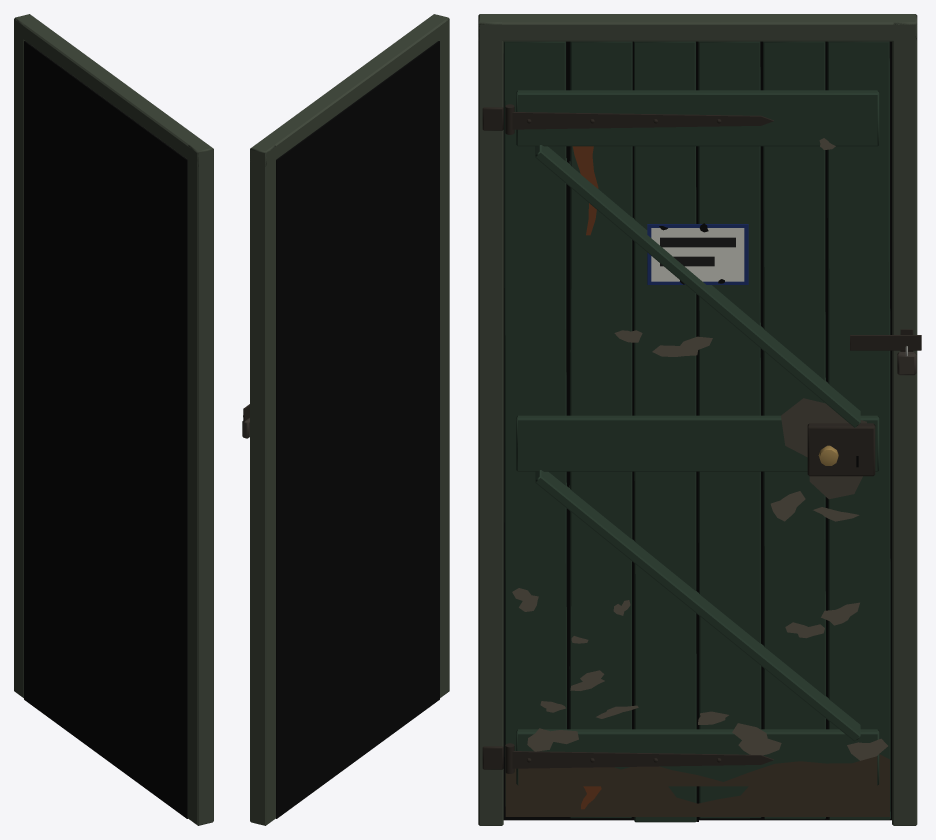
The model's file is door_wood_old.glb.
3 views of the same model, side by side, from view 1: azimuth 30°, elevation 25°; view 2: azimuth 150°, elevation 25°; view 3: azimuth 270°, elevation 25° (orthographic). The views are drawn at different scales.
Visible parts, largest first — view 1: tuer_holz1, tuer_holz0; view 2: tuer_holz1, tuer_holz0; view 3: tuer_holz2, tuer_holz0, tuer_holz5, tuer_holz6, tuer_holz3, tuer_holz4, tuer_holz1, tuer_holz12, tuer_holz14, tuer_holz13, tuer_holz11, tuer_holz7.
Part boxes in pixels (box(x1,y1,x2,y2)): tuer_holz1: box(24, 41, 187, 818); tuer_holz0: box(14, 14, 213, 825); tuer_holz1: box(276, 41, 439, 818); tuer_holz0: box(250, 14, 449, 825); tuer_holz2: box(503, 41, 890, 822); tuer_holz0: box(478, 14, 917, 825); tuer_holz5: box(505, 754, 889, 816); tuer_holz6: box(482, 104, 921, 773); tuer_holz3: box(567, 41, 891, 821); tuer_holz4: box(512, 138, 887, 760); tuer_holz1: box(503, 41, 891, 820); tuer_holz12: box(651, 228, 744, 281); tuer_holz14: box(781, 398, 866, 499); tuer_holz13: box(660, 237, 735, 266); tuer_holz11: box(647, 224, 748, 284); tuer_holz7: box(572, 146, 601, 809).
Size of the model in its own units: 0.139 by 2.1 by 1.05.
